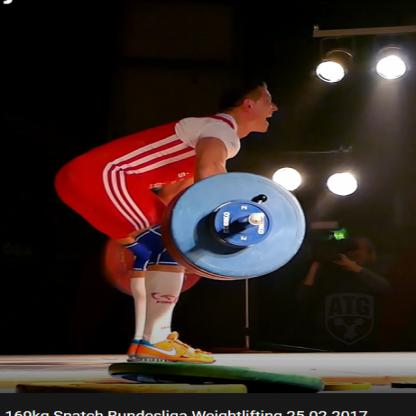Barbell: (162, 169, 315, 284)
